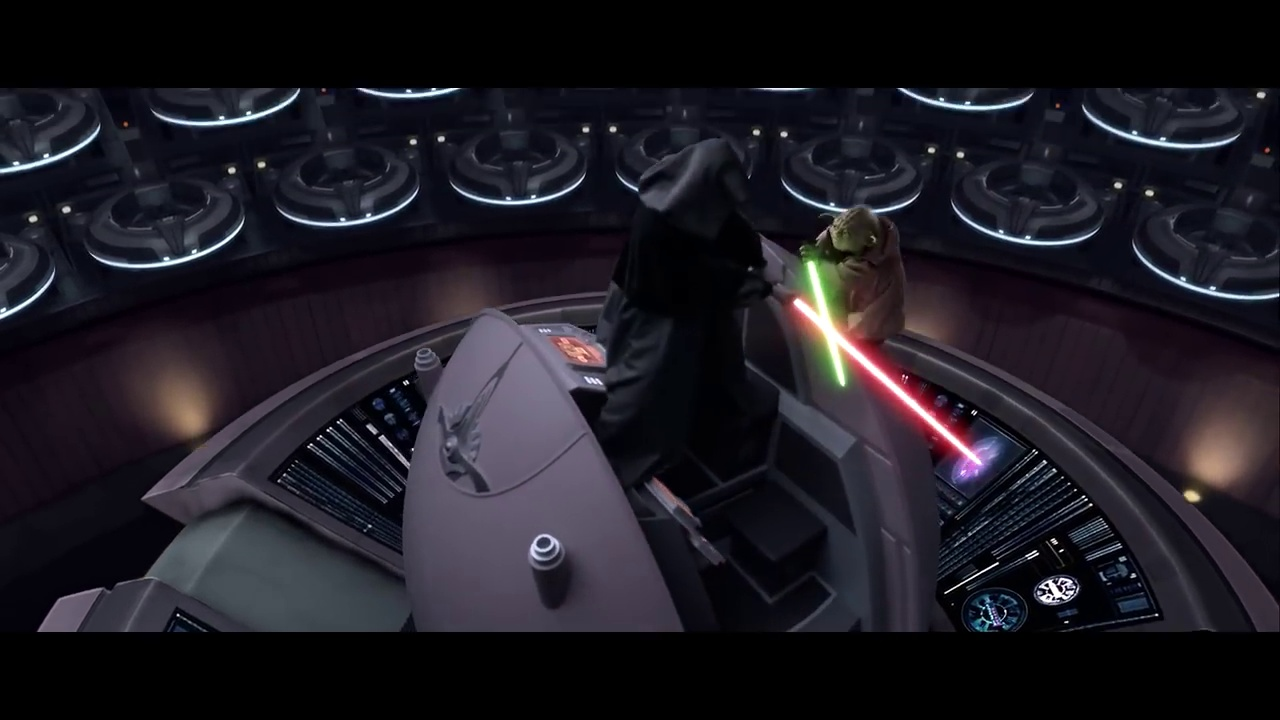lightsaber: (757, 249, 993, 477)
